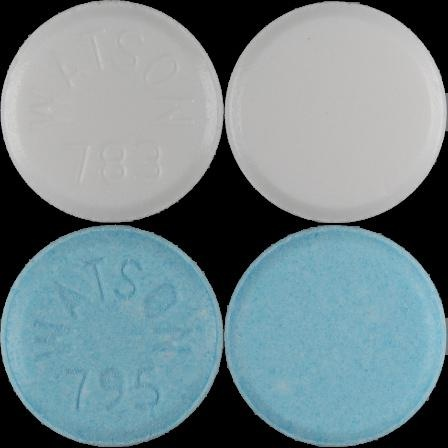0591-0783: (0, 0, 224, 224)
